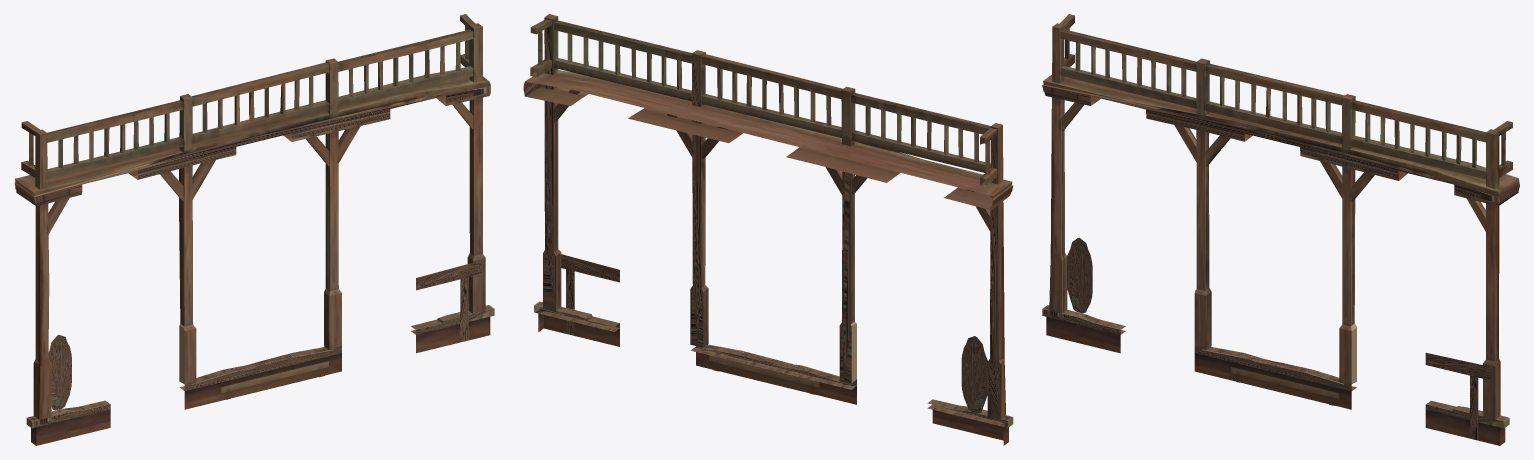
The model's file is hotel_facade_s.glb.
The picture shows the model from 3 angles, left to right: view 1: azimuth 30°, elevation 25°; view 2: azimuth 150°, elevation 25°; view 3: azimuth 330°, elevation 25°; orthographic projection. The views are drawn at different scales.
Visible parts, largest first — view 1: wl_saloon; view 2: wl_saloon; view 3: wl_saloon.
Part boxes in pixels (bbox=[...]): wl_saloon: bbox=[14, 14, 494, 445]; wl_saloon: bbox=[523, 14, 1013, 445]; wl_saloon: bbox=[1042, 14, 1519, 445].
Size of the model in its own units: 10 by 6.4 by 0.736.
Materials: 2 (1 with a texture image).
